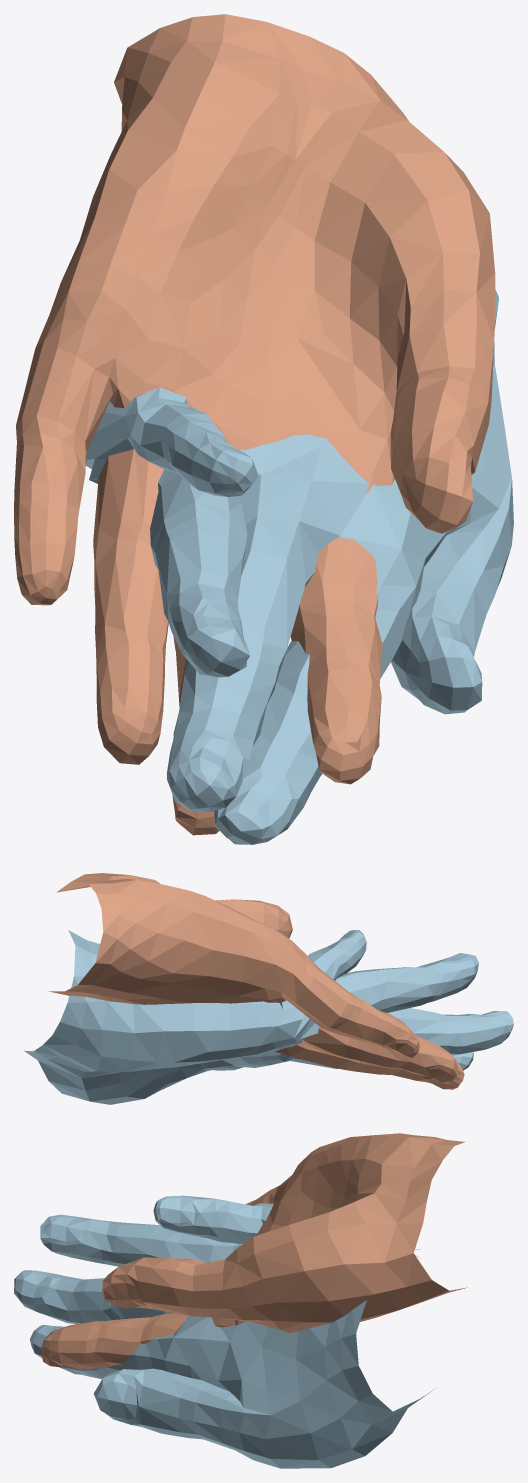
Rendered from frame_008.glb.
3 views of the same model, one above another, from view 1: azimuth 30°, elevation 25°; view 2: azimuth 150°, elevation 25°; view 3: azimuth 270°, elevation 25° (orthographic). The views are drawn at different scales.
Parts seen in each view (by area): view 1: world; view 2: world; view 3: world.
Part boxes in pixels (x1,y1,x2,y2): world: [14, 14, 513, 844]; world: [24, 873, 513, 1104]; world: [14, 1133, 466, 1468].
Bounding box in the file's own units: 0.1286 × 0.1037 × 0.1536.
